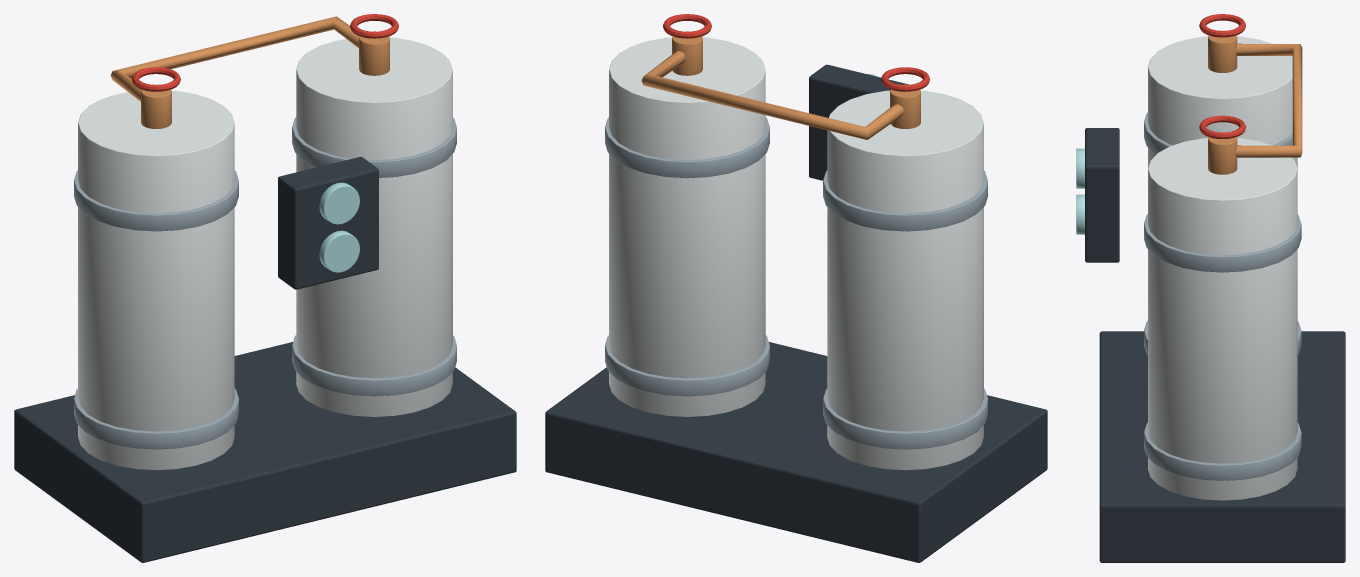
The model's file is life-support.glb.
The picture shows the model from 3 angles, left to right: view 1: azimuth 30°, elevation 25°; view 2: azimuth 150°, elevation 25°; view 3: azimuth 270°, elevation 25°; orthographic projection. The views are drawn at different scales.
Parts seen in each view (by area): view 1: Mounting rack, Oxygen tank, Oxygen tank.001, Gauge panel, Manifold, Tank strap.001, Tank strap.002, Tank strap, Tank strap.003, Gauge.001, Gauge, Valve stem (+3 smaller); view 2: Mounting rack, Oxygen tank, Oxygen tank.001, Manifold, Gauge panel, Tank strap.001, Tank strap.002, Tank strap, Tank strap.003, Valve stem, Valve stem.001, Handwheel.001 (+1 smaller); view 3: Oxygen tank.001, Mounting rack, Oxygen tank, Gauge panel, Tank strap.002, Tank strap.003, Manifold, Valve stem.001, Valve stem, Handwheel, Handwheel.001, Tank strap.001 (+2 smaller).
Part boxes in pixels (x1,y1,x2,y2): Mounting rack: [14, 342, 516, 562]; Oxygen tank: [78, 90, 234, 470]; Oxygen tank.001: [296, 37, 452, 416]; Gauge panel: [278, 156, 378, 289]; Manifold: [110, 16, 359, 101]; Tank strap.001: [74, 170, 238, 231]; Tank strap.002: [292, 335, 456, 396]; Tank strap: [74, 388, 238, 449]; Tank strap.003: [292, 117, 456, 177]; Gauge.001: [319, 182, 359, 224]; Gauge: [319, 230, 359, 272]; Valve stem: [141, 84, 171, 128]; Mounting rack: [545, 342, 1047, 562]; Oxygen tank: [827, 90, 983, 470]; Oxygen tank.001: [609, 37, 765, 416]; Manifold: [641, 51, 904, 139]; Gauge panel: [809, 64, 908, 180]; Tank strap.001: [823, 170, 987, 231]; Tank strap.002: [605, 335, 769, 396]; Tank strap: [823, 388, 987, 449]; Tank strap.003: [605, 117, 769, 178]; Valve stem: [890, 84, 920, 128]; Valve stem.001: [672, 31, 702, 75]; Handwheel.001: [663, 14, 711, 38]; Oxygen tank.001: [1148, 138, 1297, 500]; Mounting rack: [1099, 331, 1345, 562]; Oxygen tank: [1148, 36, 1297, 168]; Gauge panel: [1085, 128, 1119, 262]; Tank strap.002: [1144, 422, 1301, 480]; Tank strap.003: [1144, 214, 1301, 272]; Manifold: [1236, 43, 1302, 157]; Valve stem.001: [1208, 132, 1237, 174]; Valve stem: [1208, 30, 1237, 72]; Handwheel: [1199, 14, 1245, 37]; Handwheel.001: [1199, 115, 1245, 138]; Tank strap.001: [1144, 112, 1292, 154].
Bounding box in the file's own units: 1.55 × 1.66 × 1.01.
